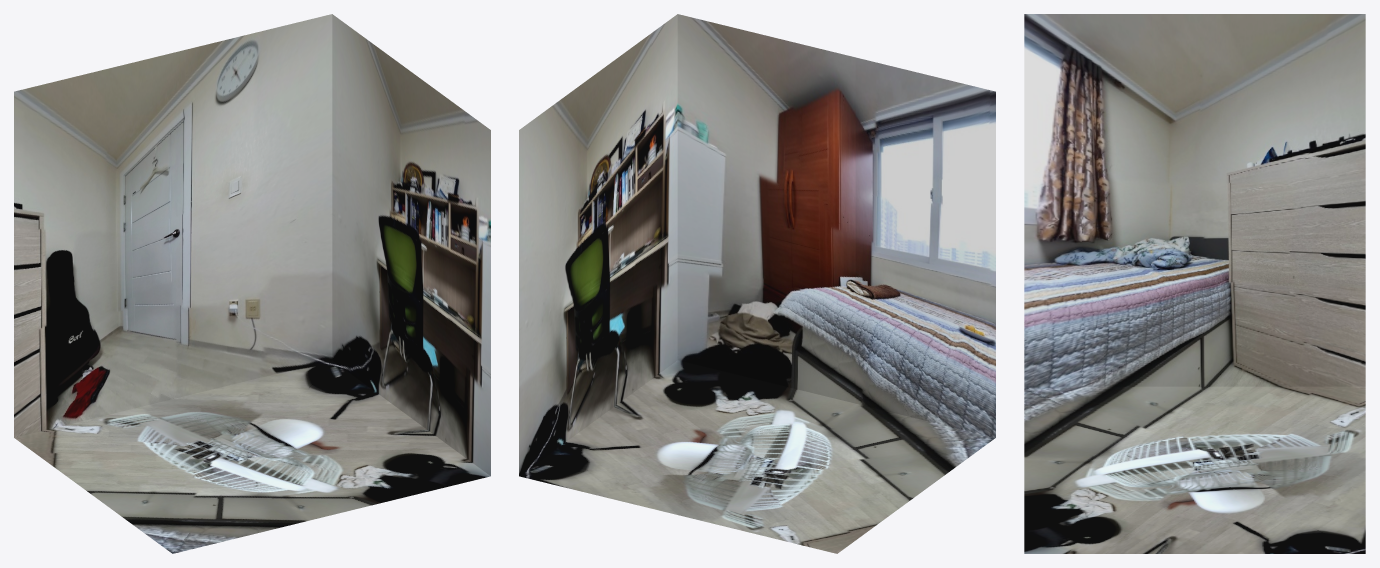
Rendered from room.glb.
3 views of the same model, side by side, from view 1: azimuth 30°, elevation 25°; view 2: azimuth 150°, elevation 25°; view 3: azimuth 270°, elevation 25° (orthographic). The views are drawn at different scales.
Parts seen in each view (by area): view 1: room; view 2: room; view 3: room.
Part boxes in pixels (x1=…): room: x1=14, y1=14, x2=490, y2=553; room: x1=519, y1=14, x2=995, y2=553; room: x1=1024, y1=14, x2=1365, y2=553.
Bounding box in the file's own units: 2.86 × 2.98 × 2.47.
6 materials, 6 textured.
